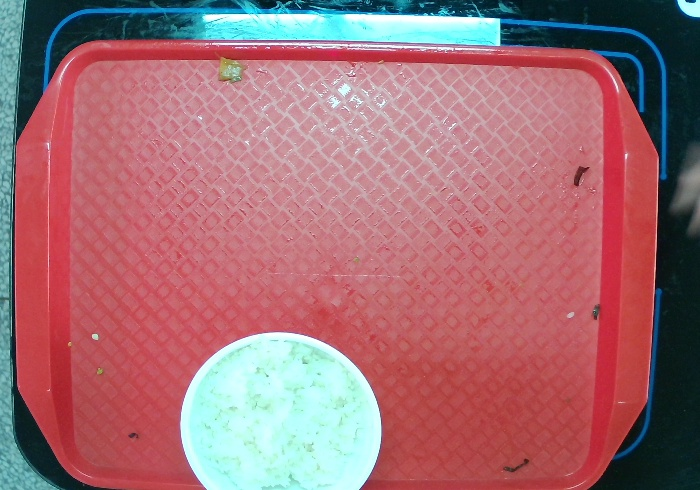YKMZ-Fan_Wan: (175, 328, 383, 490)
